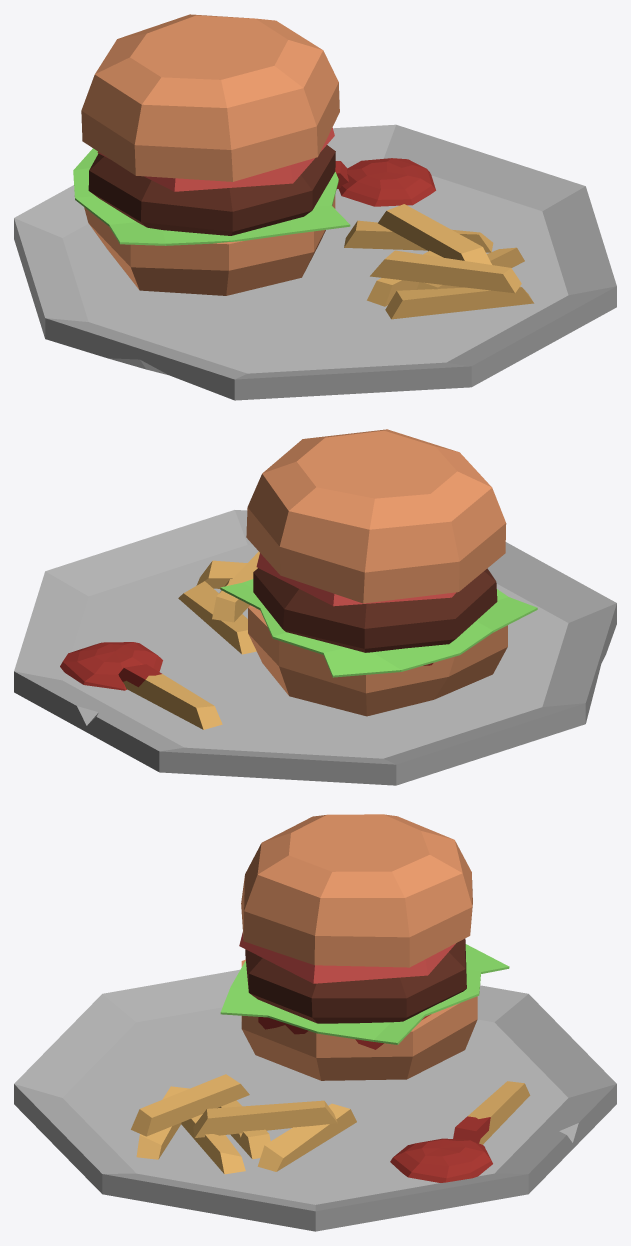
The model's file is Plate With Food.glb.
The picture shows the model from 3 angles, top to bottom: view 1: azimuth 30°, elevation 25°; view 2: azimuth 150°, elevation 25°; view 3: azimuth 270°, elevation 25°; orthographic projection. The views are drawn at different scales.
Parts seen in each view (by area): view 1: Plate_Cylinder, Burger_Cylinder.003, Fries_Cube.007, Ketchup_Sphere; view 2: Plate_Cylinder, Burger_Cylinder.003, Fries_Cube.007, Ketchup_Sphere; view 3: Plate_Cylinder, Burger_Cylinder.003, Fries_Cube.007, Ketchup_Sphere.
Part boxes in pixels (box(x1,y1,x2,y2)): Plate_Cylinder: box(14, 124, 616, 400); Burger_Cylinder.003: box(73, 14, 350, 295); Fries_Cube.007: box(335, 161, 534, 319); Ketchup_Sphere: box(339, 158, 435, 206); Plate_Cylinder: box(14, 510, 616, 785); Burger_Cylinder.003: box(220, 429, 537, 716); Fries_Cube.007: box(118, 551, 259, 729); Ketchup_Sphere: box(60, 642, 162, 690); Plate_Cylinder: box(14, 969, 616, 1231); Burger_Cylinder.003: box(220, 814, 509, 1080); Fries_Cube.007: box(131, 1074, 530, 1174); Ketchup_Sphere: box(390, 1138, 492, 1182).
Bounding box in the file's own units: 0.4927 × 0.2143 × 0.4927.
